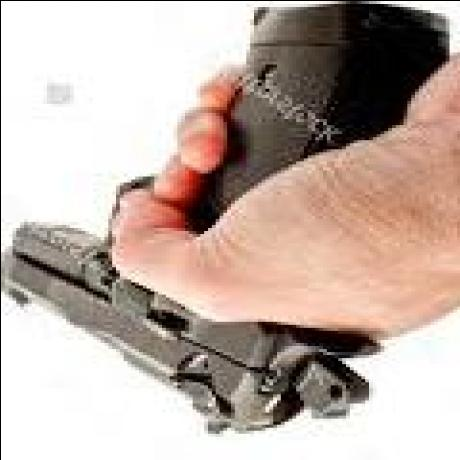1: (108, 28, 460, 344)
weapon: (13, 215, 350, 420)
